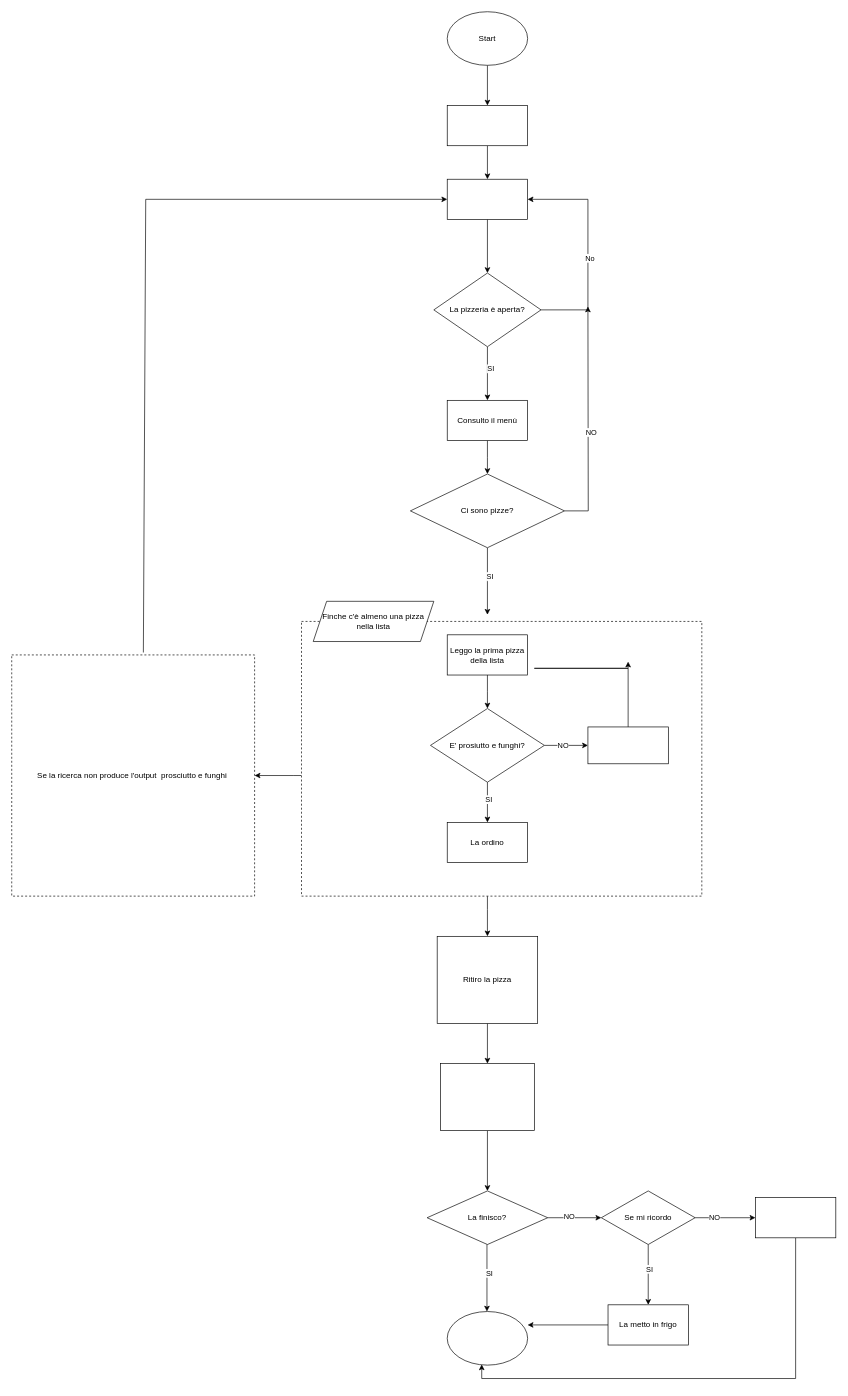
Some shapes in this 848 by 1396 pixel diagram are drawn without their labels. Each missing label, with the centre of its shape:
"Apro Browser" belongs at pixel 487 125.
"Cerco una pizzeria" belongs at pixel 487 199.
"Depenno pizza" belongs at pixel 627 745.
"FINE" belongs at pixel 487 1338.
"Mangio la pizza" belongs at pixel 487 1097.
"Marcisce" belongs at pixel 795 1217.
